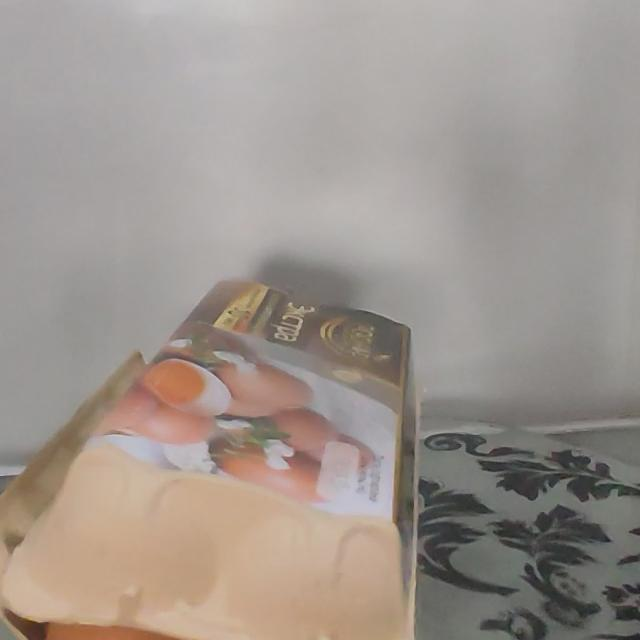egg: (0, 263, 438, 640)
